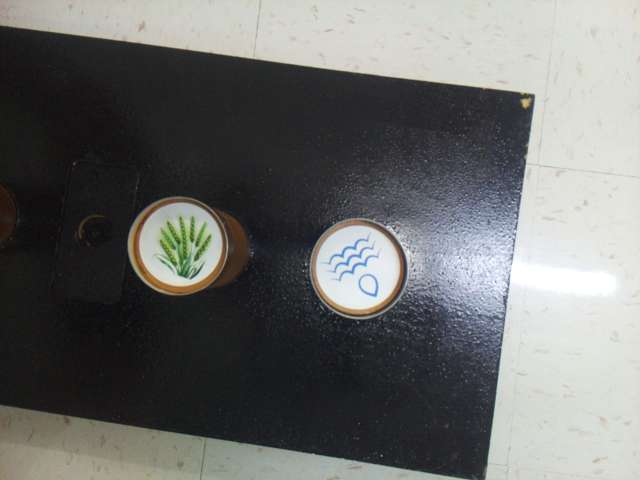water_barrel: (316, 225, 393, 310)
wheat_barrel: (147, 205, 217, 286)
